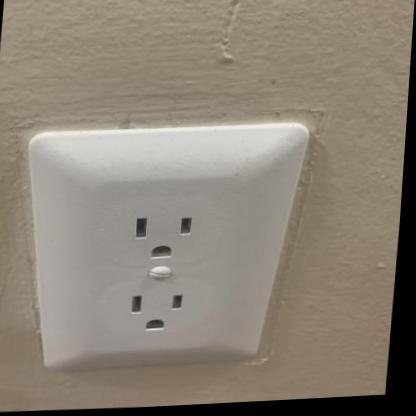OUTLET: (6, 113, 312, 377)
